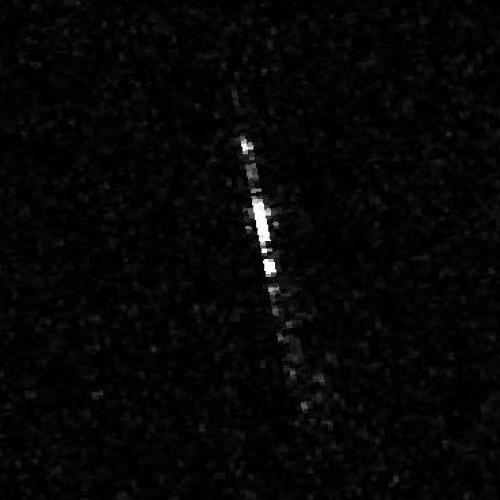ship: (238, 135, 278, 278)
